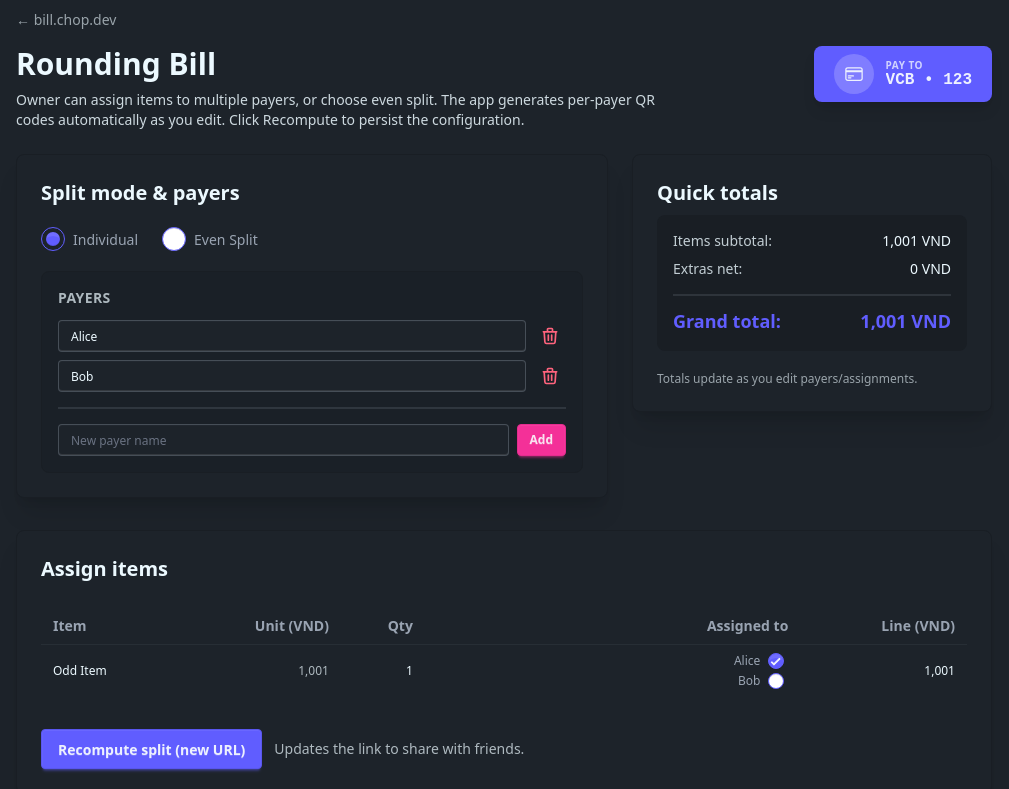
Scenario: bill/+page.svelte › should split with integer rounding (remainder goes to first payer in payer order)
Expected: the heading "Rounding Bill" is shown, [16, 43, 216, 84]
Click the checkbox labelled "Bob": click(776, 681) [768, 673, 784, 689]
(page scrolled)
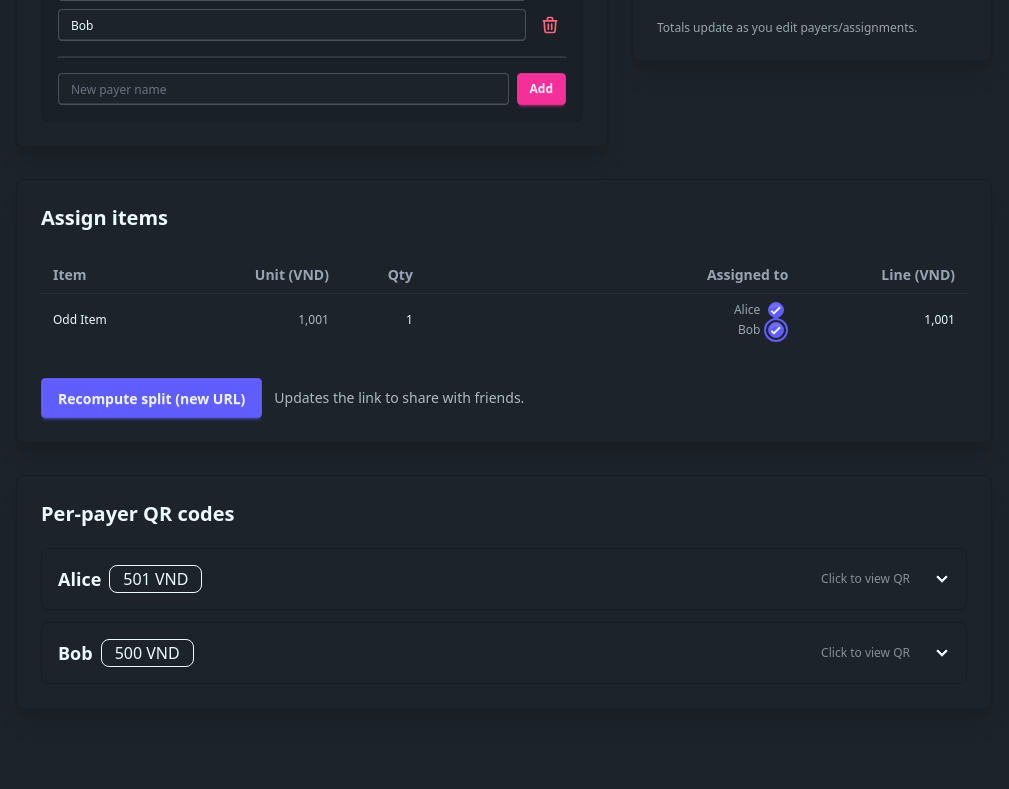
Result: the text with test id "payer-amount-Alice" reads "501 VND" at [123, 568, 188, 590]
Result: the text with test id "payer-amount-Bob" reads "500 VND" at [115, 642, 180, 664]
